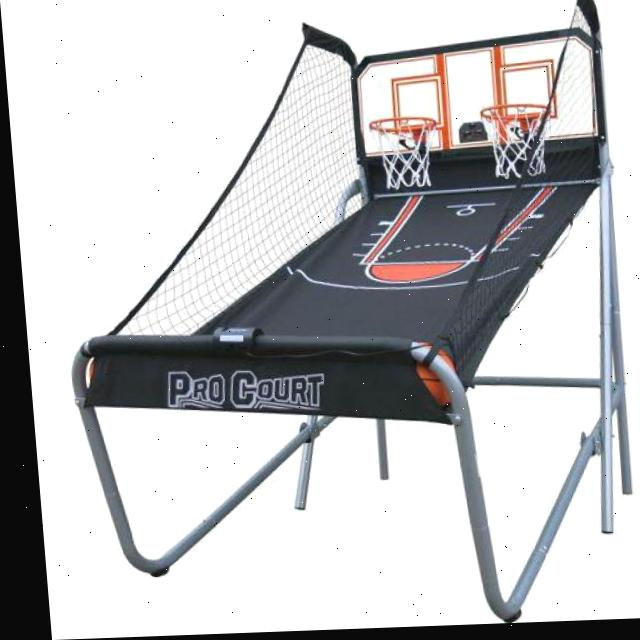Basketball: (412, 340, 458, 410), (88, 357, 99, 383)
hoop: (480, 103, 556, 180), (368, 116, 441, 190)
